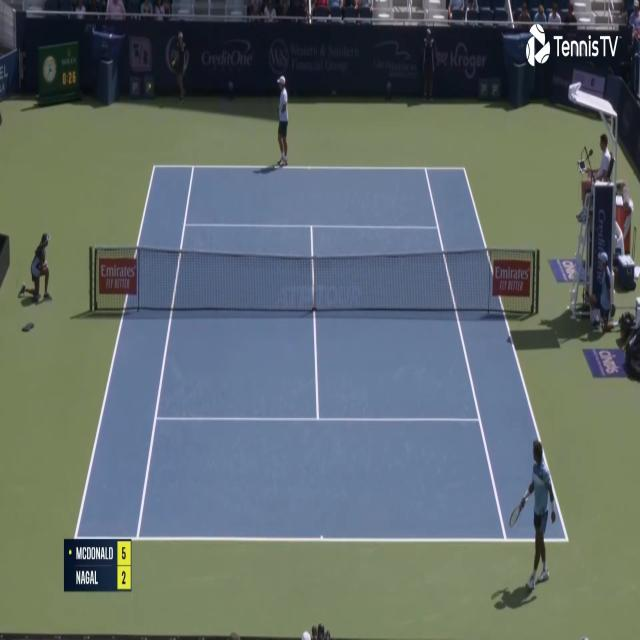tennis-player: (507, 436, 561, 596), (274, 72, 291, 170)
